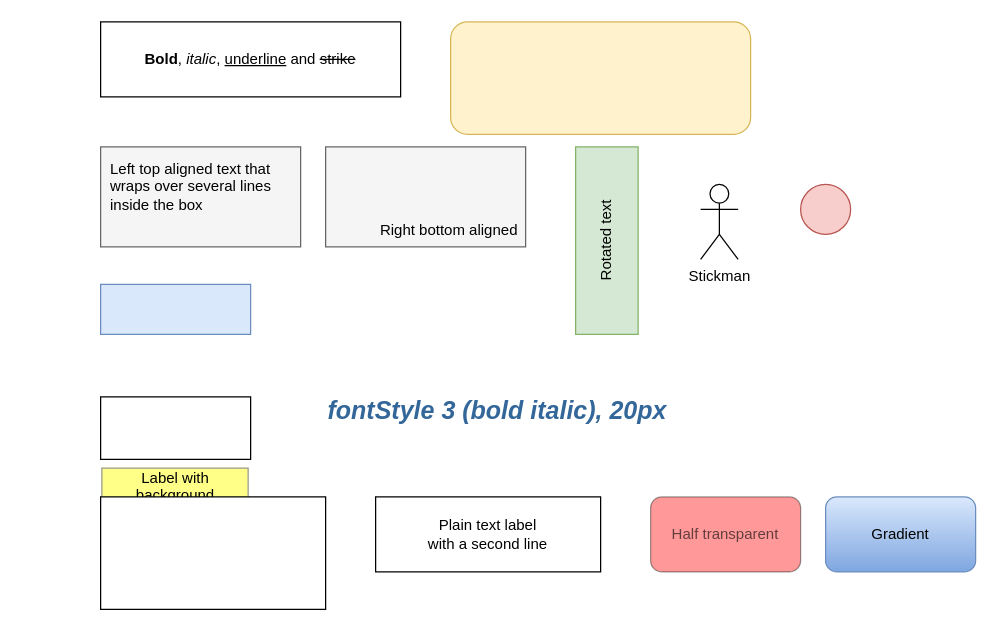
This 998x631 diagram has some shape labels left out. Here are the shapes that lost their labels. From the top down, the centre of each, then its label:
At point (600, 77): "Red 18px Courier line Blue span & <escaped>".
At point (825, 208): "Label right".
At point (175, 308): "No wrap but this text is very long for the shape".
At point (212, 552): "First item Second item Footer line".
